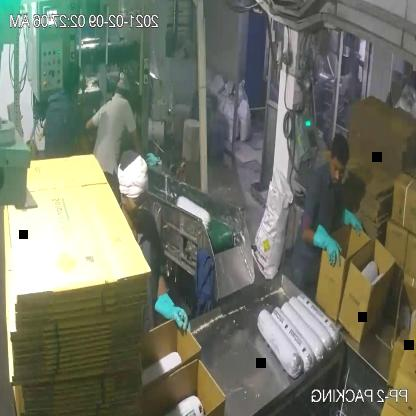glove: (153, 284, 195, 342), (310, 226, 343, 263), (339, 198, 366, 238)
no_glove: (129, 125, 153, 162)
